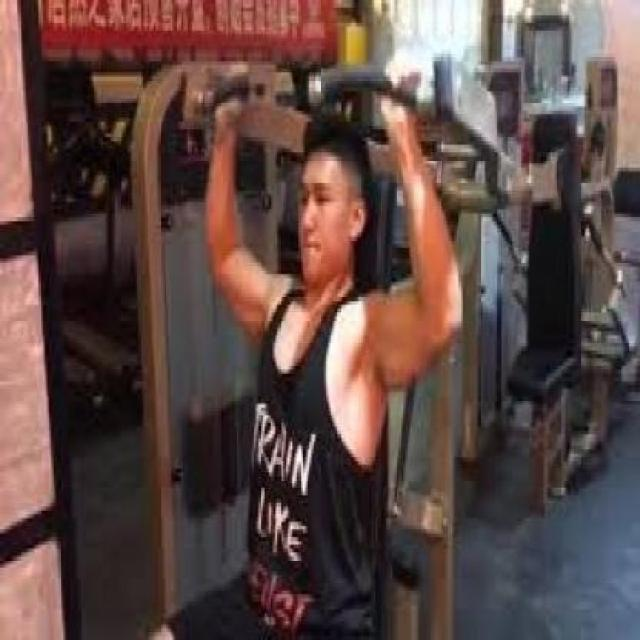shoulder press machine: (107, 1, 510, 640)
